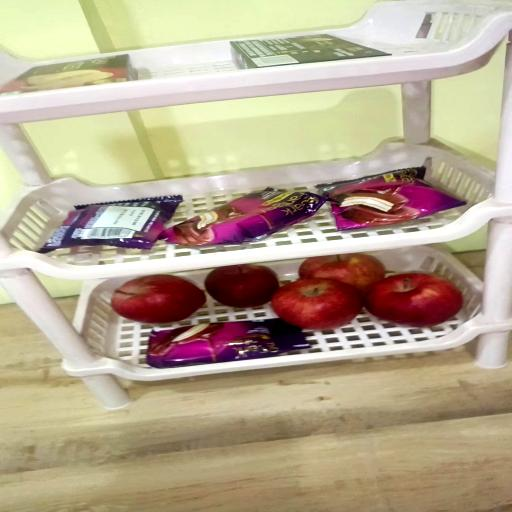Apple: (364, 274, 462, 328), (272, 279, 364, 332), (110, 275, 205, 325), (299, 255, 385, 296), (205, 265, 278, 308)
Choco Fills: (230, 33, 392, 69), (0, 55, 134, 94)
Choco Pie: (316, 168, 466, 232), (164, 189, 326, 248), (148, 320, 312, 368), (38, 199, 181, 254)
